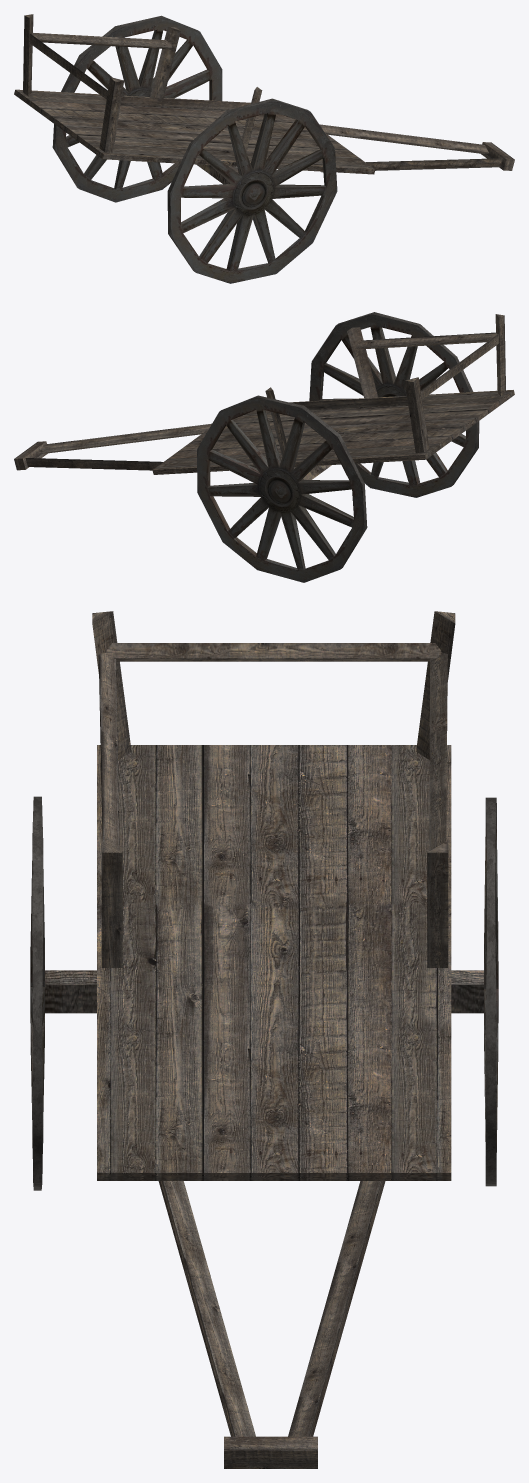
The model's file is Haywagon_LOD02.fbx.
3 renders of one model, top to bottom at view 1: azimuth 30°, elevation 25°; view 2: azimuth 150°, elevation 25°; view 3: azimuth 270°, elevation 25°, orthographic. The views are drawn at different scales.
Parts seen in each view (by area): view 1: Mesh Object; view 2: Mesh Object; view 3: Mesh Object.
Part boxes in pixels (<box>): Mesh Object: <box>14,14,514,283</box>; Mesh Object: <box>14,312,514,582</box>; Mesh Object: <box>30,611,498,1468</box>.
Bounding box in the file's own units: 2.75 × 1.3 × 1.25.
